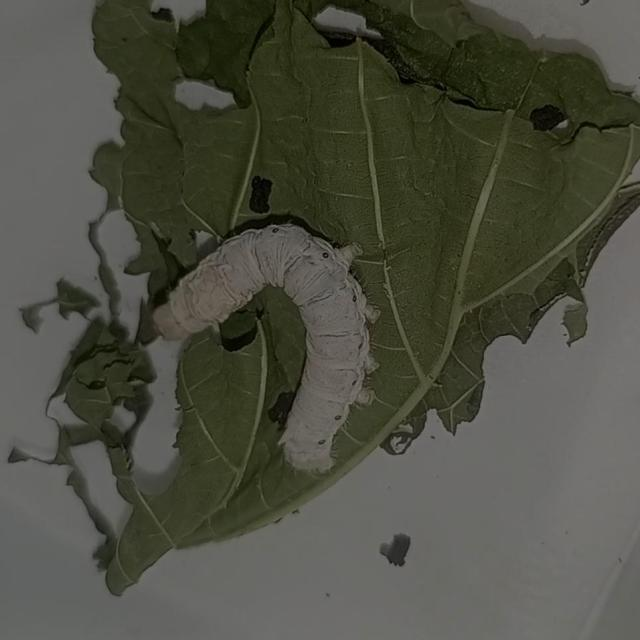Healthy: (149, 212, 381, 486)
